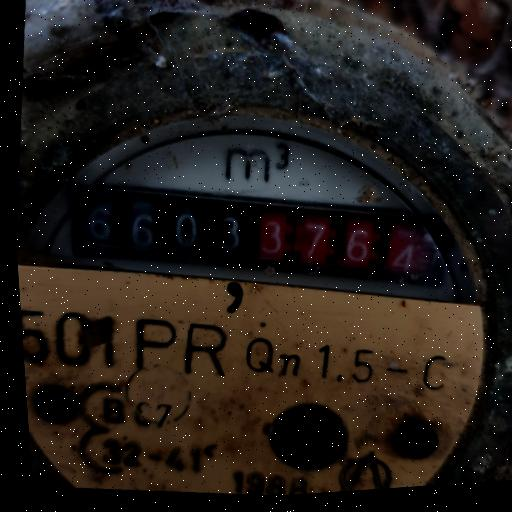0: (168, 202, 205, 253)
3: (254, 209, 291, 263), (211, 206, 248, 257)
4: (383, 219, 426, 277)
6: (337, 215, 378, 272), (80, 195, 118, 248), (124, 199, 162, 251)
7: (298, 212, 335, 267)
border_water_meter_number: (52, 153, 457, 313)
